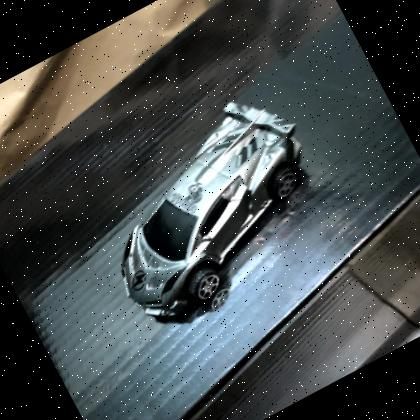Car: (121, 100, 304, 315)
